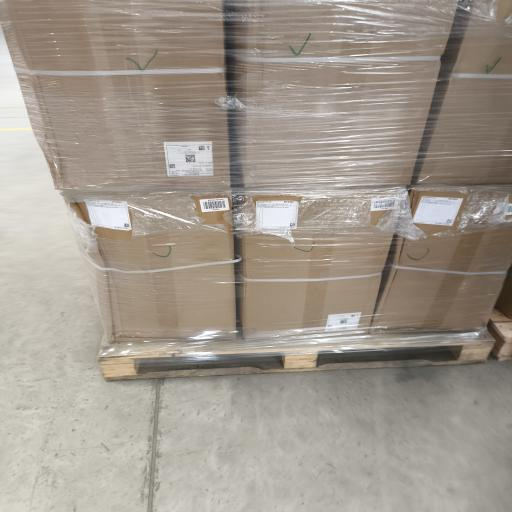pallet: (100, 335, 494, 380), (489, 310, 511, 360)
